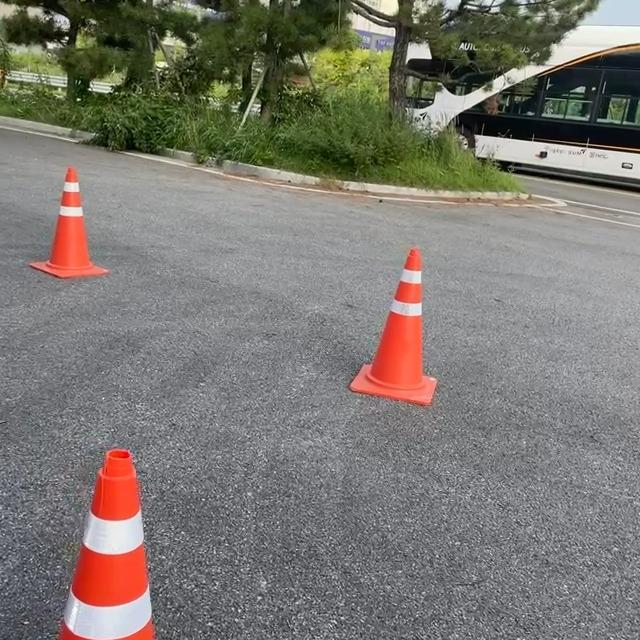fallen_object: (19, 429, 203, 640), (325, 222, 459, 412), (2, 133, 121, 292)
